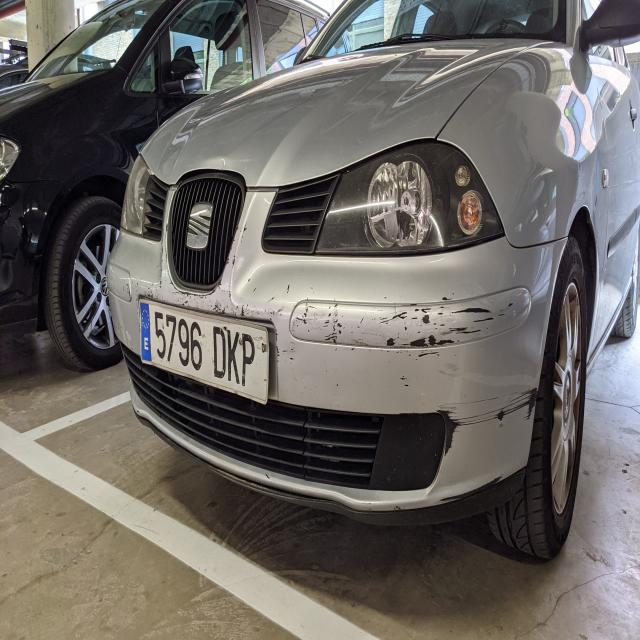license_plate-34Td: (141, 301, 269, 403)
